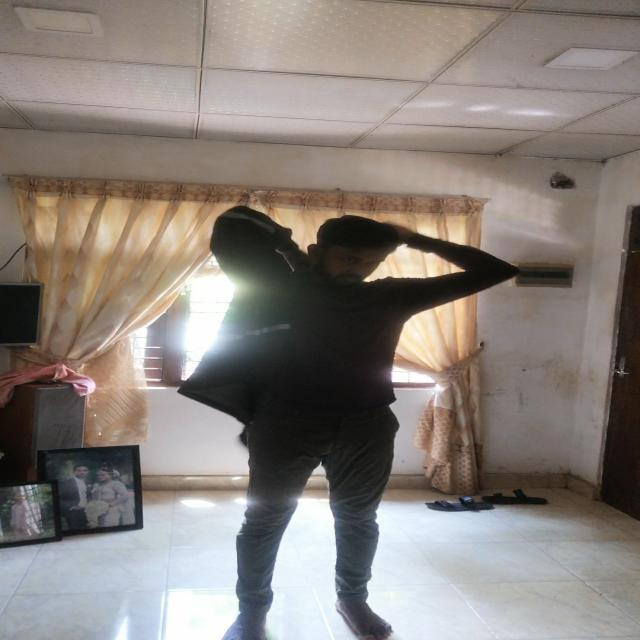Jacket_Wearer: (198, 204, 416, 436)
Person: (231, 206, 525, 640)
